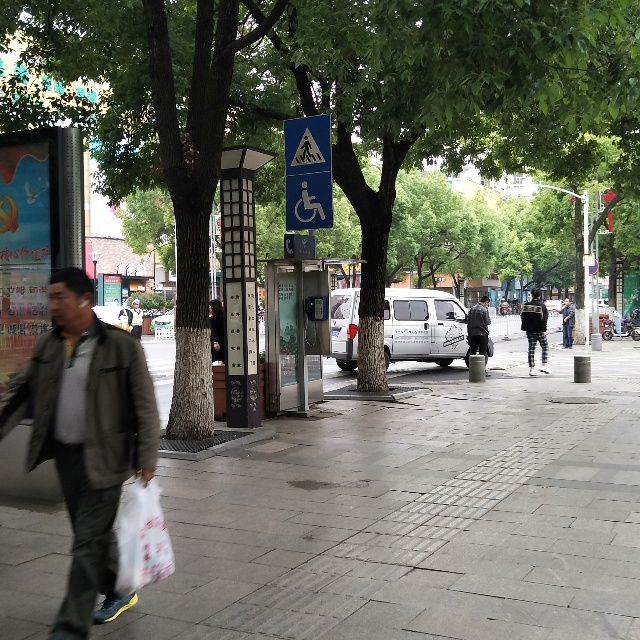crosswalk: (287, 122, 331, 173)
